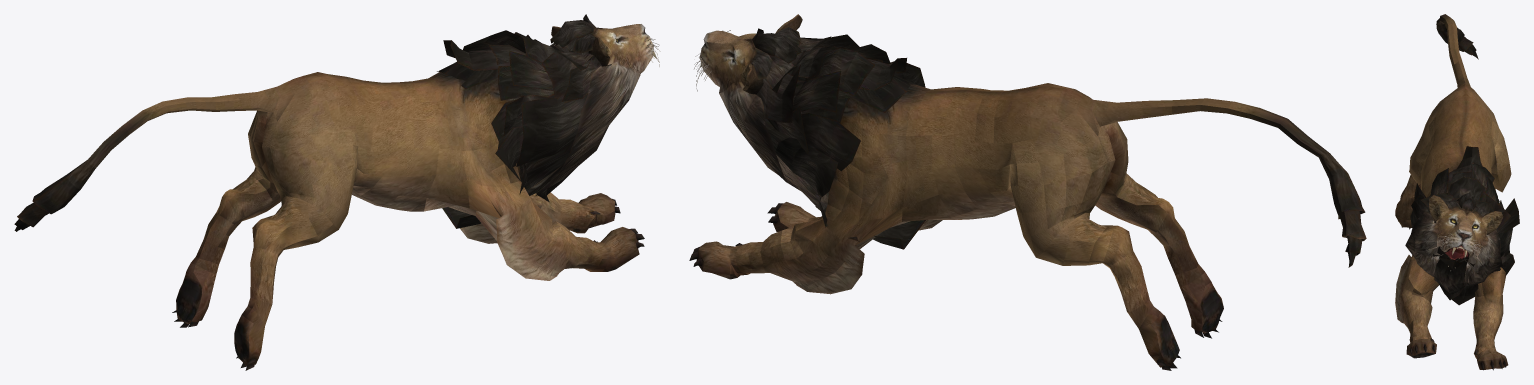
File: Lion@motions.fbx
3 views of the same model, side by side, from view 1: azimuth 30°, elevation 25°; view 2: azimuth 150°, elevation 25°; view 3: azimuth 270°, elevation 25° (orthographic). The views are drawn at different scales.
Parts seen in each view (by area): view 1: MeshLion_0; view 2: MeshLion_0; view 3: MeshLion_0.
Boxes of the visible parts, bbox=[...] form: MeshLion_0: bbox=[14, 14, 660, 370]; MeshLion_0: bbox=[689, 14, 1366, 370]; MeshLion_0: bbox=[1395, 14, 1519, 370].
Bounding box in the file's own units: 156 × 402 × 94.57.
